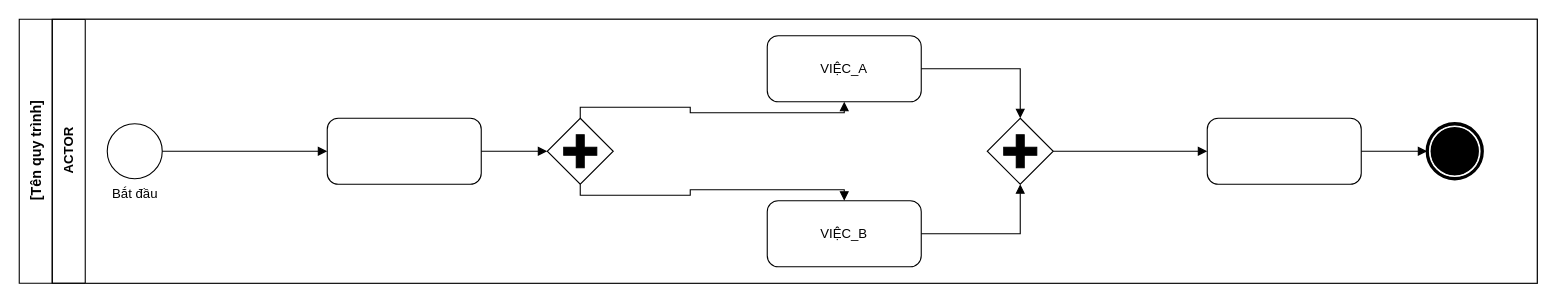
The diagram is 1557 pixels wide and 303 high, and some of its shapes have lost their labels. Here are the shapes that lost their labels. From the top down, the box of each, then its label:
(326, 117, 481, 184): TASK_1
(1206, 117, 1361, 184): TASK_SAU
(1426, 123, 1482, 179): Kết thúc
